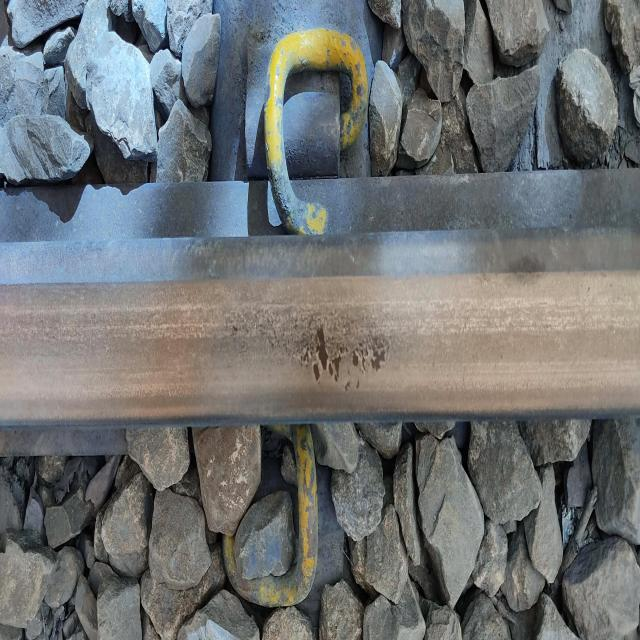Good Fasteners: (242, 0, 374, 233), (223, 426, 344, 607)
